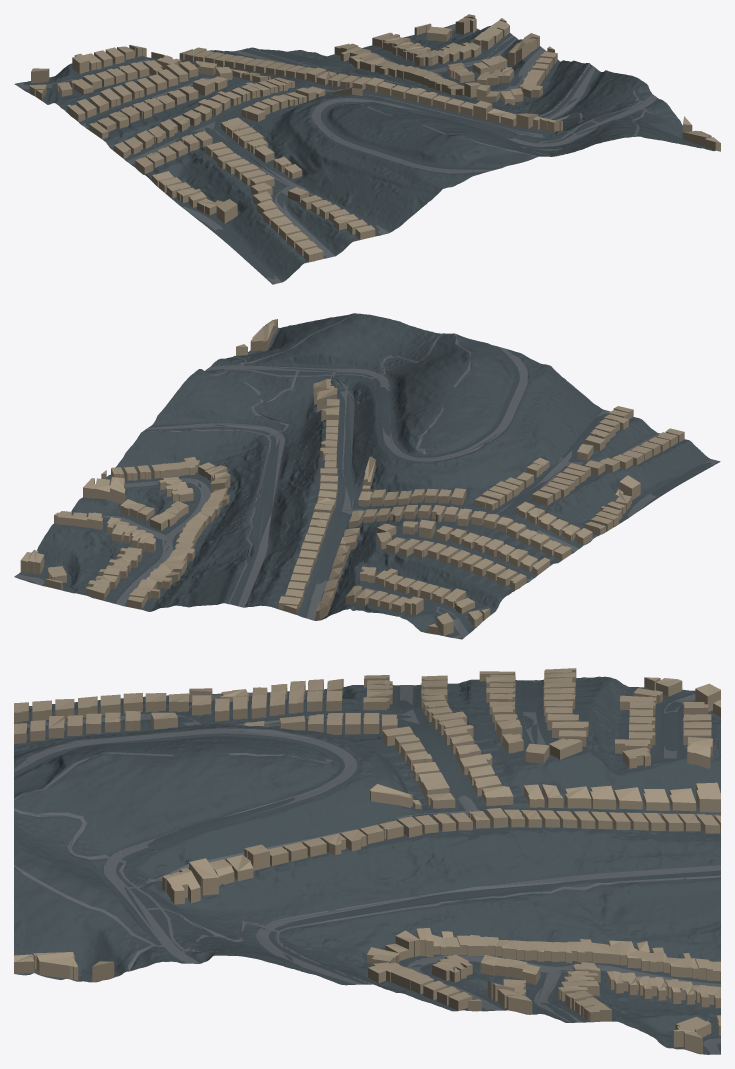
File: epsg26910-1428-10880.lod0.glb
The picture shows the model from 3 angles, top to bottom: view 1: azimuth 30°, elevation 25°; view 2: azimuth 150°, elevation 25°; view 3: azimuth 270°, elevation 25°; orthographic projection. The views are drawn at different scales.
Visible parts, largest first — view 1: epsg26910-1428-10880-lod0; view 2: epsg26910-1428-10880-lod0; view 3: epsg26910-1428-10880-lod0.
Boxes of the visible parts, x1,y1,x2,y2 form: epsg26910-1428-10880-lod0: (14, 14, 720, 284); epsg26910-1428-10880-lod0: (14, 313, 720, 639); epsg26910-1428-10880-lod0: (14, 668, 720, 1054).
Size of the model in its own units: 384 by 90.39 by 384.
